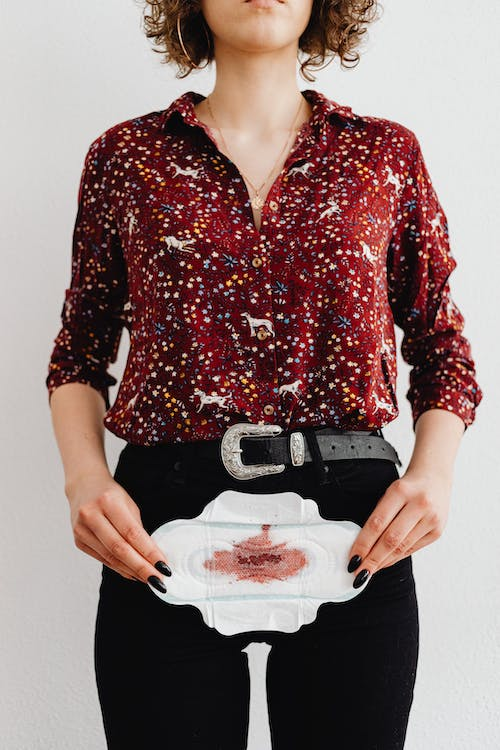blood: (202, 520, 309, 586)
